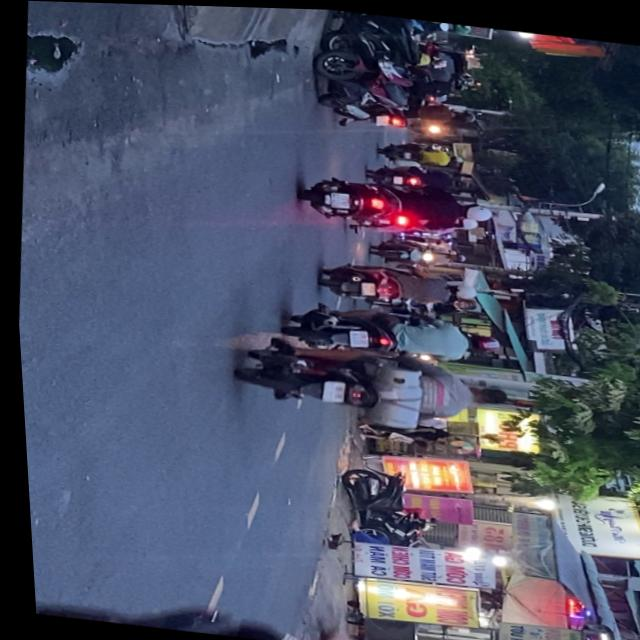helmet: (461, 330, 496, 352), (458, 201, 490, 221), (446, 281, 473, 298)
licenseplate: (224, 334, 509, 438), (276, 296, 500, 368), (291, 170, 494, 241), (312, 256, 476, 313)
motorcyclist: (465, 382, 504, 406)
nohelmet: (316, 378, 341, 402), (344, 327, 365, 346), (326, 190, 347, 206), (356, 280, 372, 293)
